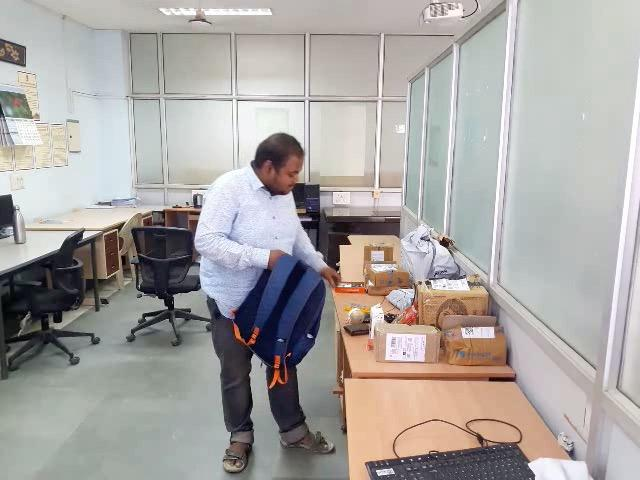shoplifting: (186, 229, 379, 385)
